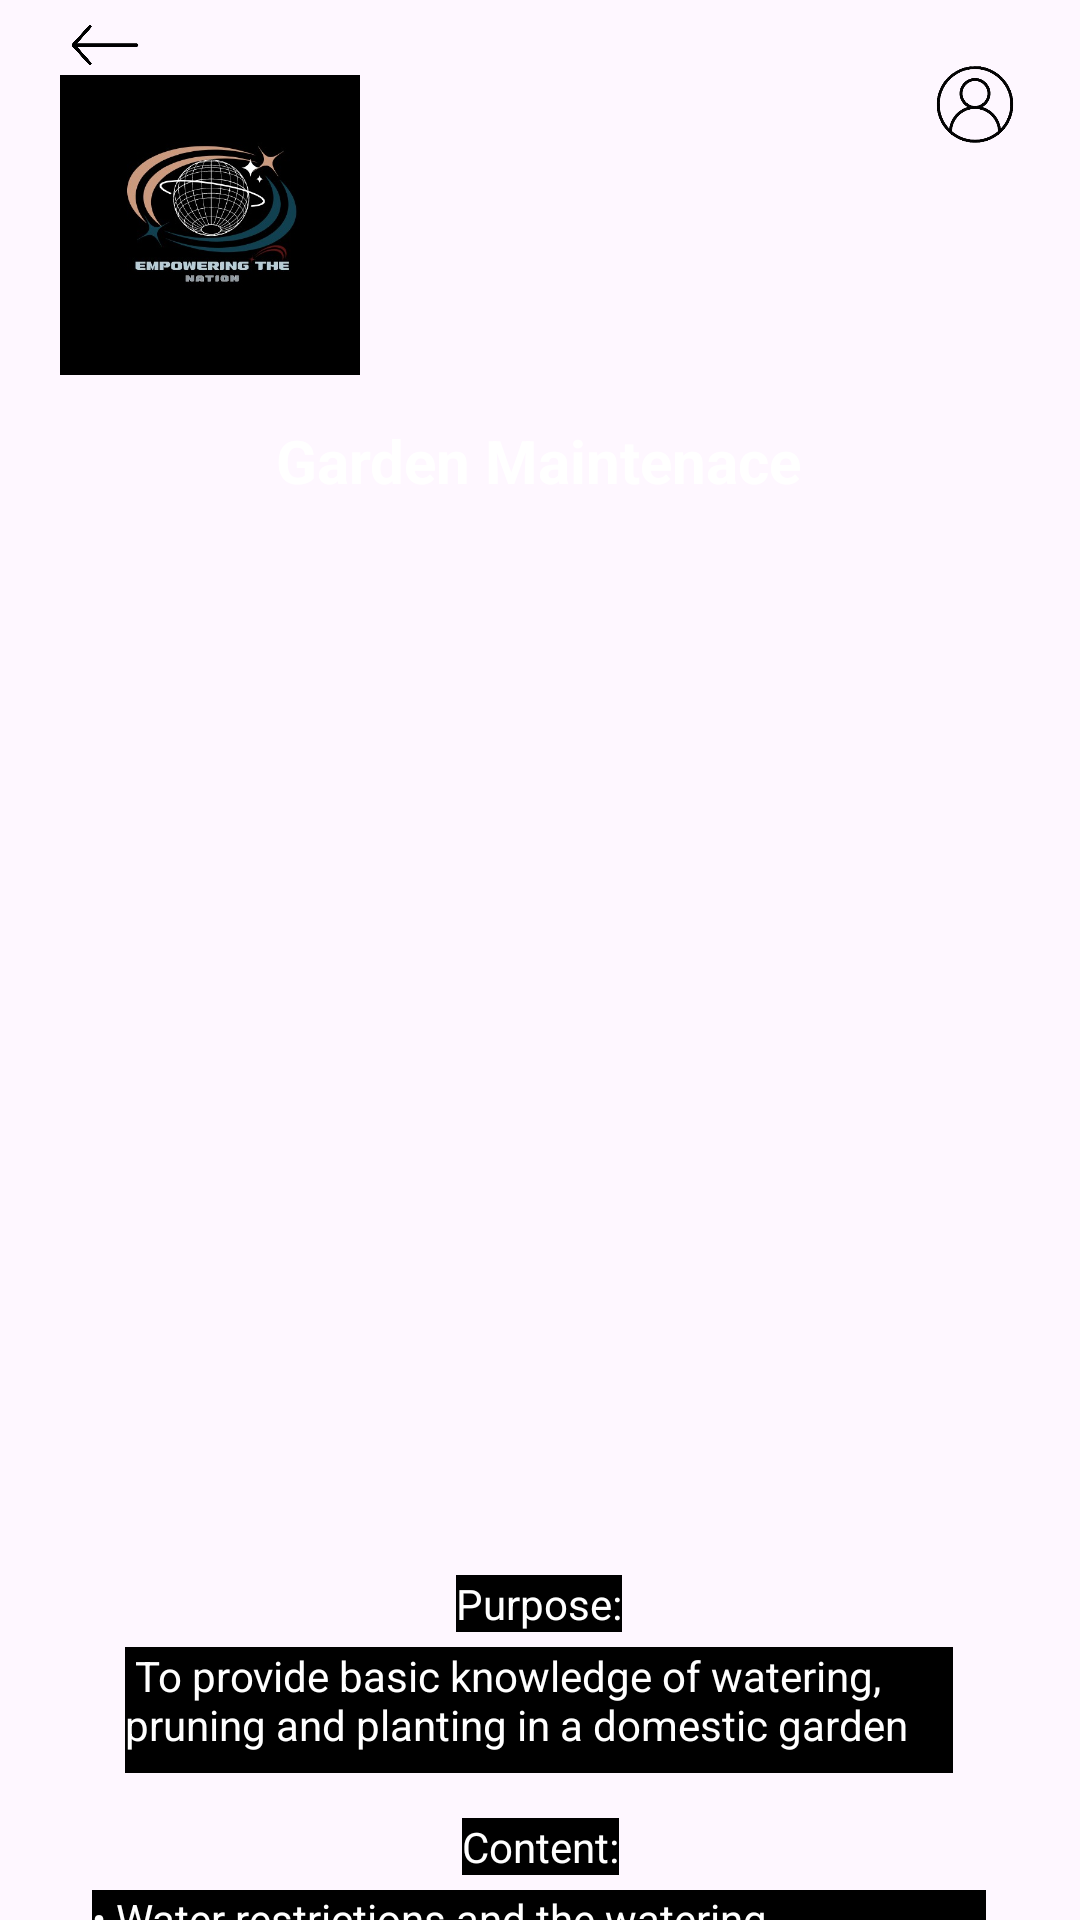

Named icons in this screenshot (1080 × 1920) and their centers, (x=x, y=y):
back: (x=105, y=45)
